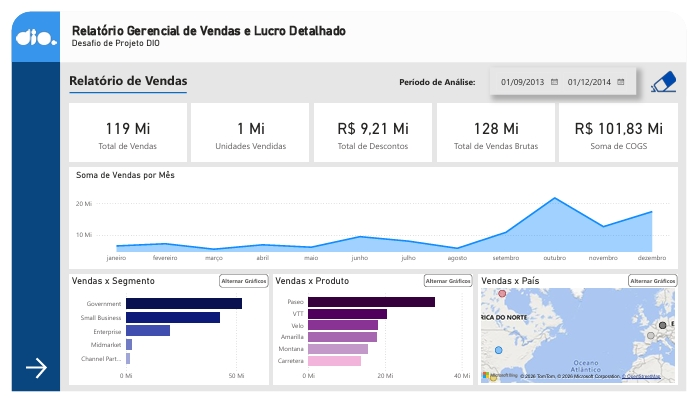

The page's visual inventory and layout, read from the dashboard file:
{"tool":"powerbi","page":{"name":"Vendas","canvas":[1280,720],"ordinal":0},"visuals":[{"type":"shape","box":[0,0,1280.2,720],"z":0},{"type":"shape","box":[109.7,138.9,222.4,28.4],"z":0,"group":"g2"},{"type":"shape","box":[109,174.6,222,110],"z":0,"group":"g1"},{"type":"shape","box":[0,0,92.2,720],"z":1000},{"type":"textbox","box":[103.7,107.6,300,46.3],"z":1000,"group":"g2"},{"type":"shape","box":[341.8,174.6,222.4,110.4],"z":1000,"group":"g1"},{"type":"shape","box":[0,0,92.2,95],"z":2000},{"type":"shape","box":[574.7,174.6,222.4,110.4],"z":2000,"group":"g1"},{"type":"image","title":"Logo DIO","box":[9.3,10.7,76,76.7],"z":3000},{"type":"shape","box":[807.5,174.6,222.4,110.4],"z":3000,"group":"g1"},{"type":"shape","box":[1040.3,174.6,222.4,110.4],"z":4000,"group":"g1"},{"type":"actionButton","title":"Avançar","box":[0,650.9,92.2,50.4],"z":4000},{"type":"shape","box":[92.1,0,1187.9,95.6],"z":5000},{"type":"textbox","title":"Título","box":[109,0,594,73.1],"z":6000},{"type":"group","id":"g1","title":"Cartões","box":[109,174.6,1153.7,110.4],"z":7000},{"type":"group","id":"g2","title":"Tema do Relatório","box":[103.7,107.6,300,59.7],"z":8000},{"type":"shape","box":[109,295.5,1153.7,192.5],"z":9000},{"type":"shape","box":[109,498.5,378,210.4],"z":10000},{"type":"shape","box":[885.1,498.5,377.6,210.4],"z":11000},{"type":"shape","box":[497,498.5,377.6,210.4],"z":12000},{"type":"image","title":"Limpar Filtros","box":[1212.5,109.4,50.4,46.1],"z":13000},{"type":"areaChart","fields":{"Y":["Sum(financials.Vendas)"],"Category":["financials.Data.Variation.Hierarquia de datas.Mês"]},"box":[116.6,299.5,1140.5,184.3],"z":14000},{"type":"card","fields":{"Values":["Sum(financials.Vendas)"]},"box":[109.4,174.2,221.8,109.4],"z":15000},{"type":"card","fields":{"Values":["Sum(financials.Unidades Vendidas)"]},"box":[342.7,174.2,221.8,109.4],"z":16000},{"type":"card","fields":{"Values":["Sum(financials.Descontos)"]},"box":[574.6,174.2,221.8,109.4],"z":17000},{"type":"card","fields":{"Values":["Sum(financials.Vendas Brutas)"]},"box":[807.8,174.2,221.8,109.4],"z":18000},{"type":"card","fields":{"Values":["Sum(financials.COGS)"]},"box":[1041.1,174.2,221.8,109.4],"z":19000},{"type":"clusteredBarChart","title":"Vendas x Segmento","fields":{"Y":["Sum(financials.Vendas)"],"Category":["financials.Segmento"]},"box":[109,499,379,210],"z":20000},{"type":"clusteredBarChart","title":"Vendas x Produto","fields":{"Y":["Sum(financials.Vendas)"],"Category":["financials.Produto"]},"box":[495,499,379,210],"z":21000},{"type":"map","title":"Vendas x País","fields":{"Size":["Sum(financials.Vendas)"],"Category":["financials.País"]},"box":[886,499,377,210],"z":22000},{"type":"slicer","fields":{"Values":["financials.Data"]},"box":[907.2,105.1,277.9,53.3],"z":23000},{"type":"textbox","box":[708.5,103.7,198.7,53.3],"z":24000},{"type":"actionButton","title":"Botão Segmentos (Rosca)","box":[394.2,498.3,92.5,24.2],"z":31000},{"type":"actionButton","title":"Botão Produto (Rosca)","box":[781.7,497.5,92.5,24.2],"z":32000},{"type":"actionButton","title":"Botão País (Árvore)","box":[1170,497.5,92.5,24.2],"z":33000}]}

Visuals, with their boxes in screenshot pixels (x1, y1, x2, y2), scaled from the page's 1280x720 canvas onto the 697x403 screenshot:
shape: 0/0/696/402
shape: 60/78/181/94
shape: 59/98/180/159
shape: 0/0/50/402
textbox: 56/60/220/86
shape: 186/98/307/160
shape: 0/0/50/53
shape: 313/98/434/160
"Logo DIO" image: 5/6/46/49
shape: 440/98/561/160
shape: 566/98/688/160
"Avançar" actionButton: 0/364/50/393
shape: 50/0/696/54
"Título" textbox: 59/0/383/41
"Cartões" group: 59/98/688/160
"Tema do Relatório" group: 56/60/220/94
shape: 59/165/688/273
shape: 59/279/265/397
shape: 482/279/688/397
shape: 271/279/476/397
"Limpar Filtros" image: 660/61/688/87
areaChart - Sum(financials.Vendas) x financials.Data.Variation.Hierarquia de datas.Mês: 63/168/685/271
card - Sum(financials.Vendas): 60/98/180/159
card - Sum(financials.Unidades Vendidas): 187/98/307/159
card - Sum(financials.Descontos): 313/98/434/159
card - Sum(financials.Vendas Brutas): 440/98/561/159
card - Sum(financials.COGS): 567/98/688/159
"Vendas x Segmento" clusteredBarChart: 59/279/266/397
"Vendas x Produto" clusteredBarChart: 270/279/476/397
"Vendas x País" map: 482/279/688/397
slicer - financials.Data: 494/59/645/89
textbox: 386/58/494/88
"Botão Segmentos (Rosca)" actionButton: 215/279/265/292
"Botão Produto (Rosca)" actionButton: 426/278/476/292
"Botão País (Árvore)" actionButton: 637/278/687/292
